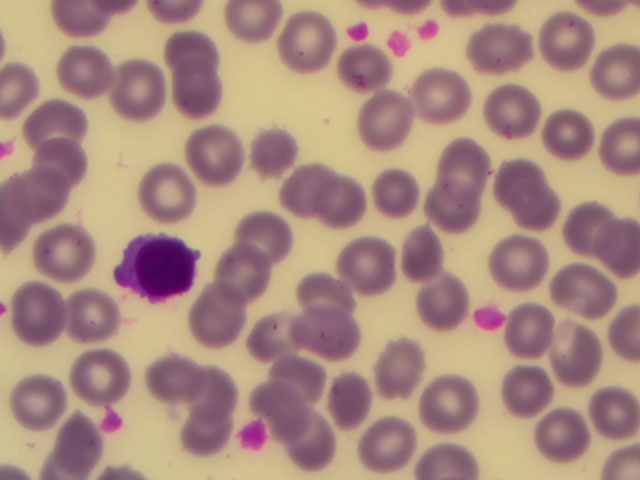Platelets: (473, 300, 507, 337), (234, 419, 275, 448), (388, 28, 418, 60), (417, 16, 449, 43), (96, 406, 129, 428), (348, 16, 372, 43)
RBC: (55, 41, 119, 103), (106, 59, 170, 121), (156, 18, 220, 80), (167, 55, 231, 117), (182, 122, 246, 184), (137, 161, 201, 223), (236, 121, 300, 183), (23, 96, 87, 158), (33, 126, 97, 188), (7, 160, 71, 222), (35, 215, 99, 277), (6, 275, 70, 337), (47, 281, 111, 343), (65, 339, 129, 401), (3, 378, 67, 440), (37, 411, 101, 473), (184, 357, 248, 419), (132, 339, 196, 401), (166, 406, 230, 468), (188, 288, 252, 350), (211, 239, 275, 301), (230, 209, 294, 271), (280, 160, 344, 222), (312, 174, 376, 236), (367, 159, 431, 221), (343, 235, 407, 297), (289, 261, 353, 323), (303, 305, 367, 367), (244, 305, 308, 367), (274, 342, 338, 404), (261, 379, 325, 441), (287, 412, 351, 474), (315, 368, 379, 430), (358, 411, 422, 473), (371, 333, 435, 395), (418, 372, 482, 434), (418, 418, 482, 480), (495, 367, 559, 429), (522, 394, 586, 456), (576, 380, 640, 442), (539, 322, 603, 384), (507, 305, 571, 367), (487, 236, 551, 298), (399, 268, 463, 330), (388, 225, 452, 287), (424, 177, 488, 239), (433, 133, 497, 195), (353, 87, 417, 149), (424, 65, 488, 127), (328, 47, 392, 109), (280, 13, 344, 75), (474, 12, 538, 74), (477, 79, 541, 141), (532, 98, 596, 160), (531, 10, 595, 72), (576, 44, 640, 106), (576, 112, 640, 174), (563, 194, 627, 256), (510, 182, 574, 244), (491, 145, 555, 207), (556, 263, 620, 325), (227, 1, 291, 62)
WBC: (113, 222, 204, 306)
